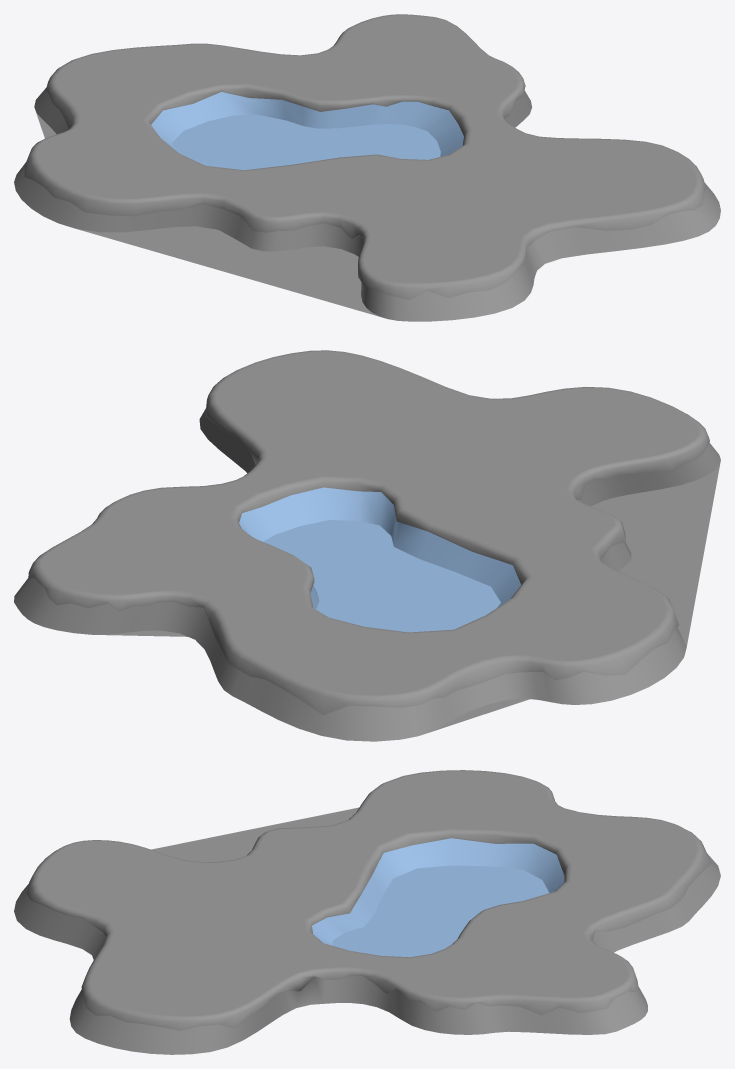
The model's file is Island01.FBX.
The picture shows the model from 3 angles, top to bottom: view 1: azimuth 30°, elevation 25°; view 2: azimuth 150°, elevation 25°; view 3: azimuth 270°, elevation 25°; orthographic projection. The views are drawn at different scales.
Parts seen in each view (by area): view 1: Island01; view 2: Island01; view 3: Island01.
Boxes of the visible parts, bbox=[...] form: Island01: bbox=[14, 14, 720, 321]; Island01: bbox=[14, 350, 720, 741]; Island01: bbox=[14, 770, 720, 1054].
Size of the model in its own units: 1045 by 55.12 by 1187.
